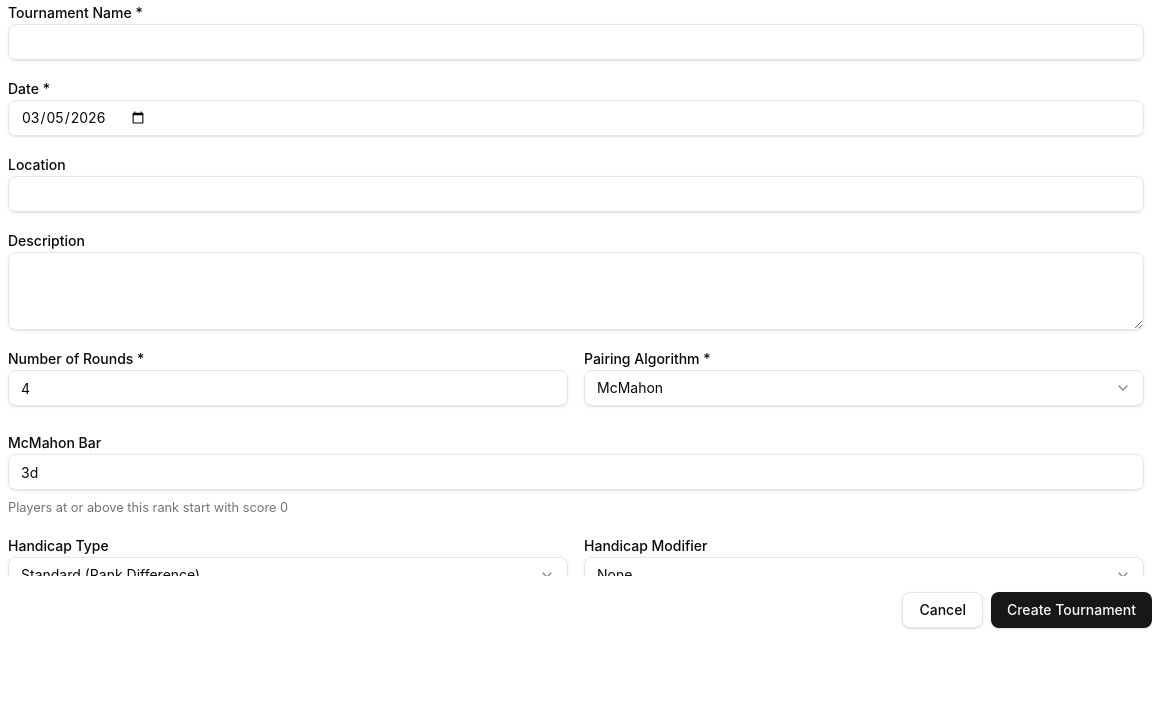
TournamentForm › validates required name field
The width and height of the screenshot is (1164, 720).
# Clear the name field and submit
Clear the field labelled "Tournament Name *" at (576, 42), box top-left (8, 24), bottom-right (1144, 60)
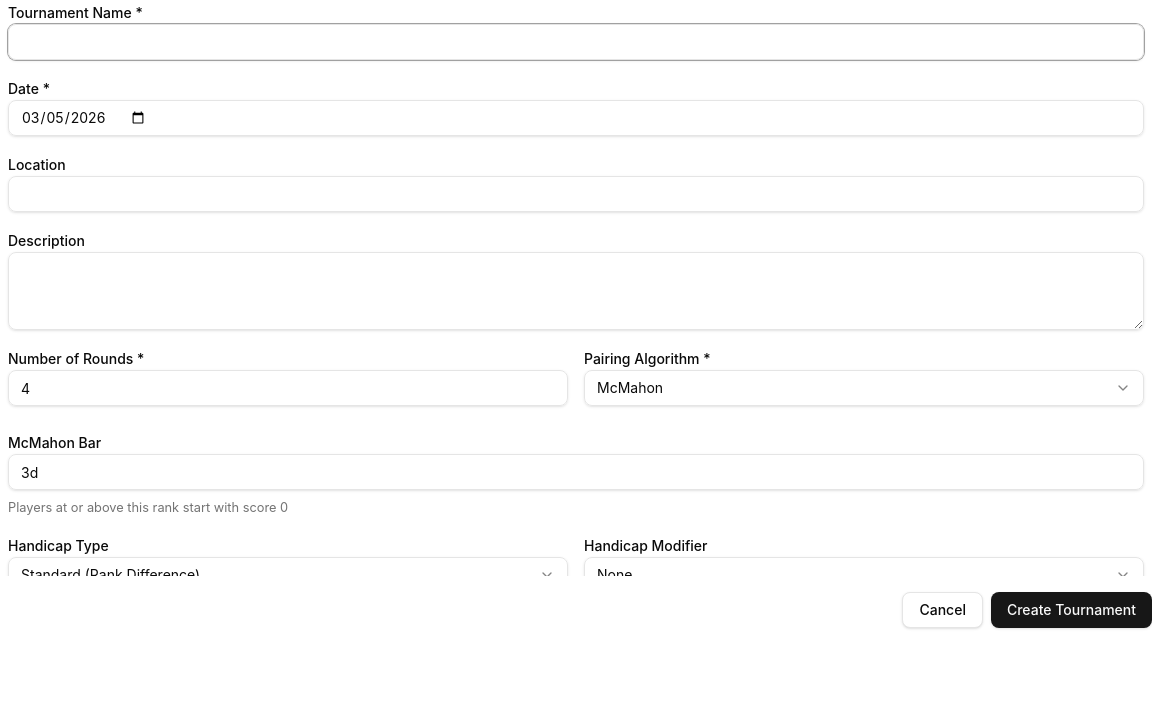
Click the button "Create Tournament" at (1072, 610), box top-left (991, 592), bottom-right (1152, 628)
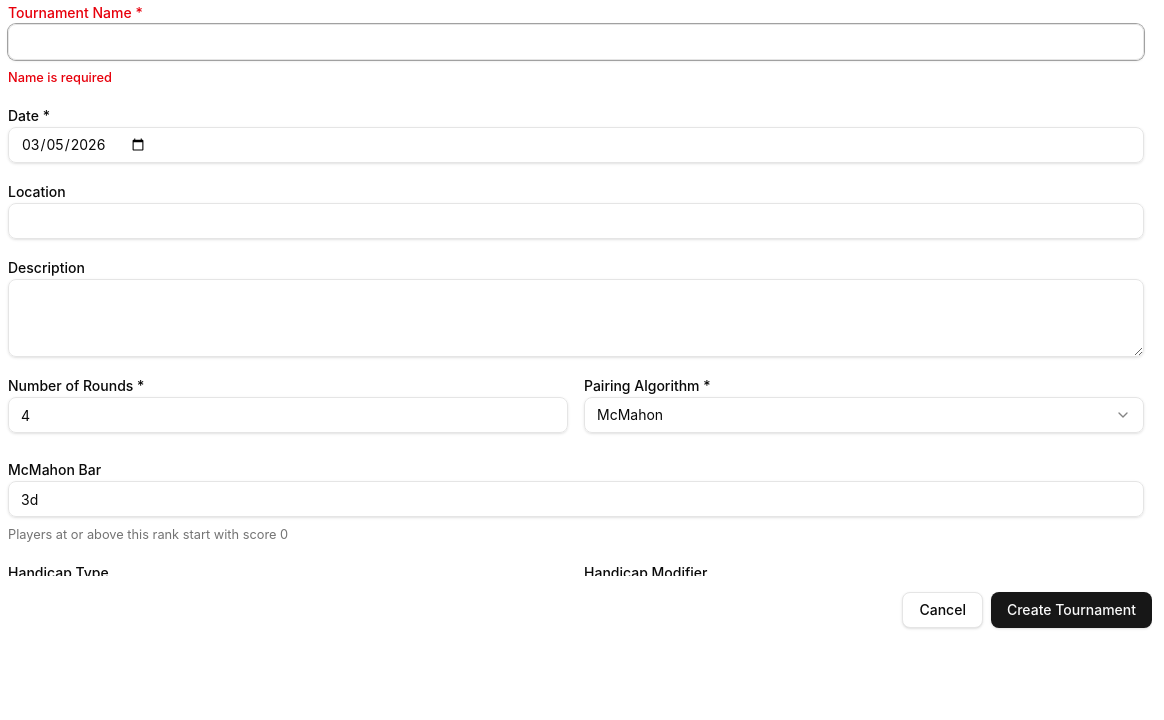
Now the text "Name is required" is shown, box top-left (8, 70), bottom-right (112, 85)
